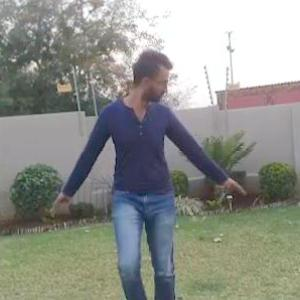land: (27, 62, 245, 299)
